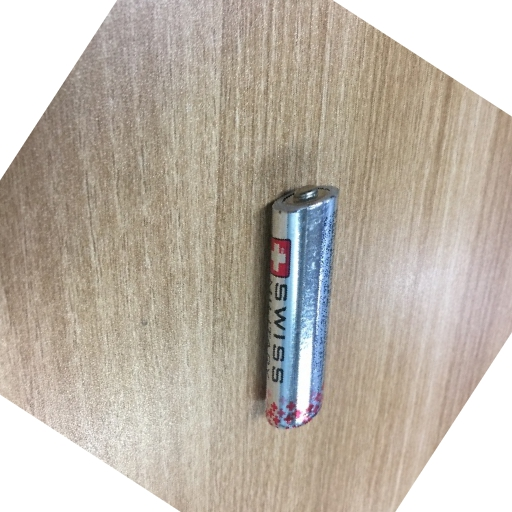Battery_0: (257, 166, 349, 447)
